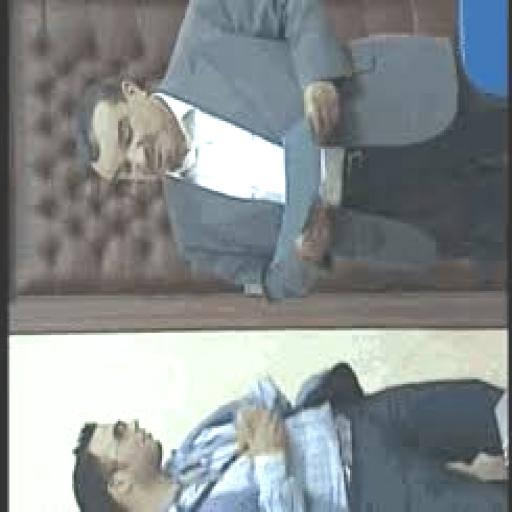slimane: (73, 79, 186, 182)
